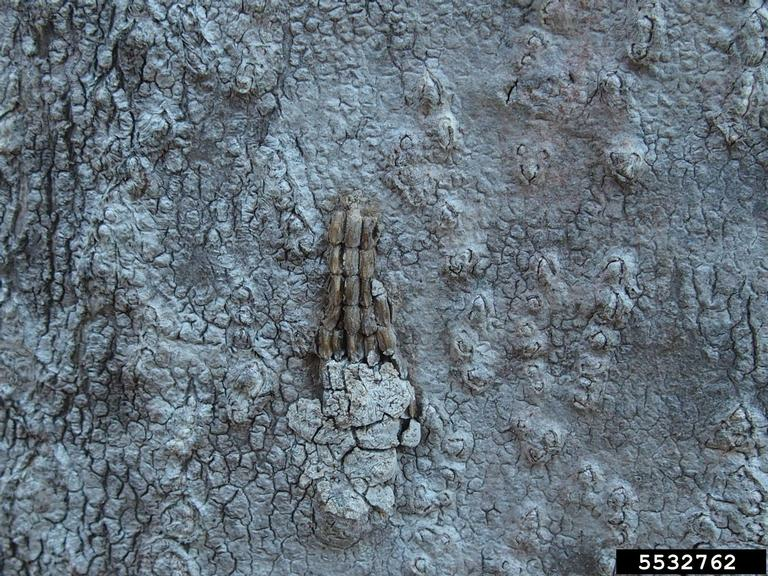egg masses: (283, 174, 444, 570)
